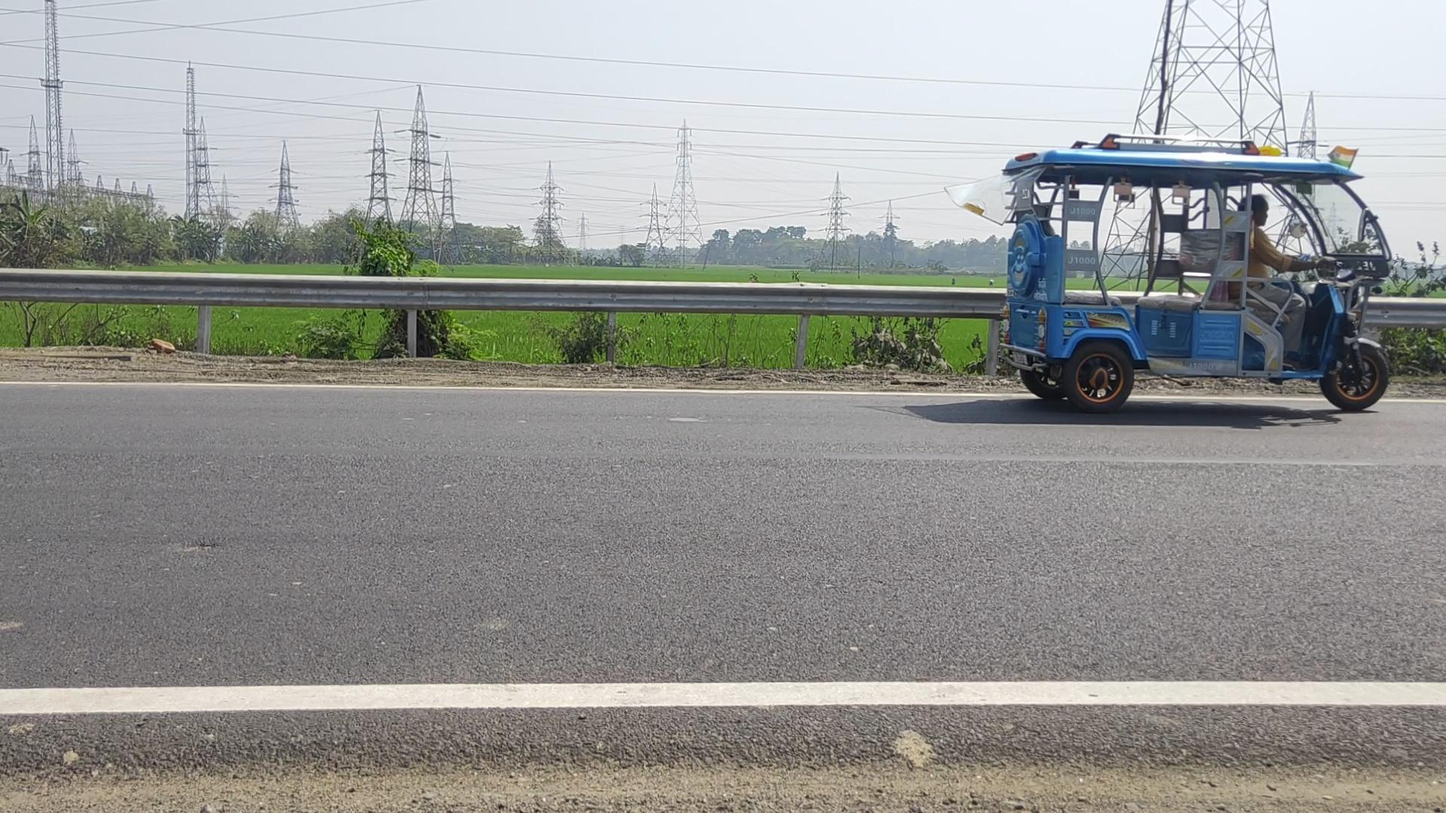Auto: (996, 133, 1394, 416)
